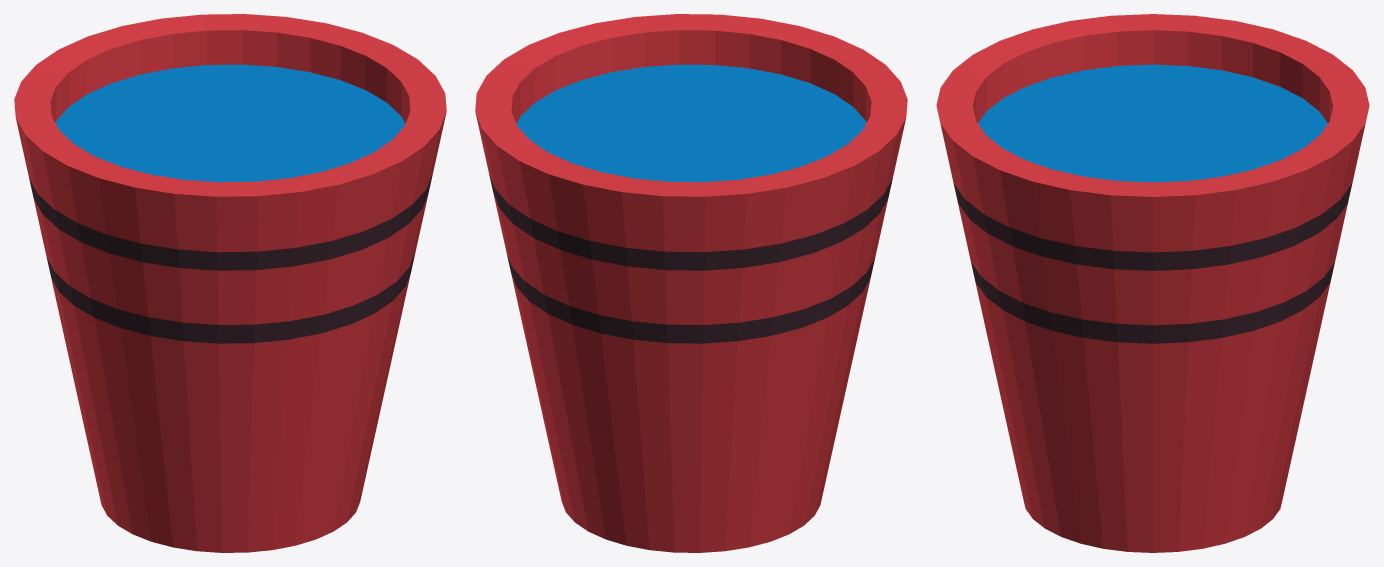
File: waterbucket.fbx
3 renders of one model, left to right at view 1: azimuth 30°, elevation 25°; view 2: azimuth 150°, elevation 25°; view 3: azimuth 270°, elevation 25°, orthographic.
Visible parts, largest first — view 1: Cylinder_0; view 2: Cylinder_0; view 3: Cylinder_0.
Part boxes in pixels (x1,y1,x2,y2): Cylinder_0: [14, 14, 446, 552]; Cylinder_0: [475, 14, 907, 552]; Cylinder_0: [936, 14, 1369, 552].
Size of the model in its own units: 97.32 by 97.32 by 97.32.
Materials: 1 (1 with a texture image).
